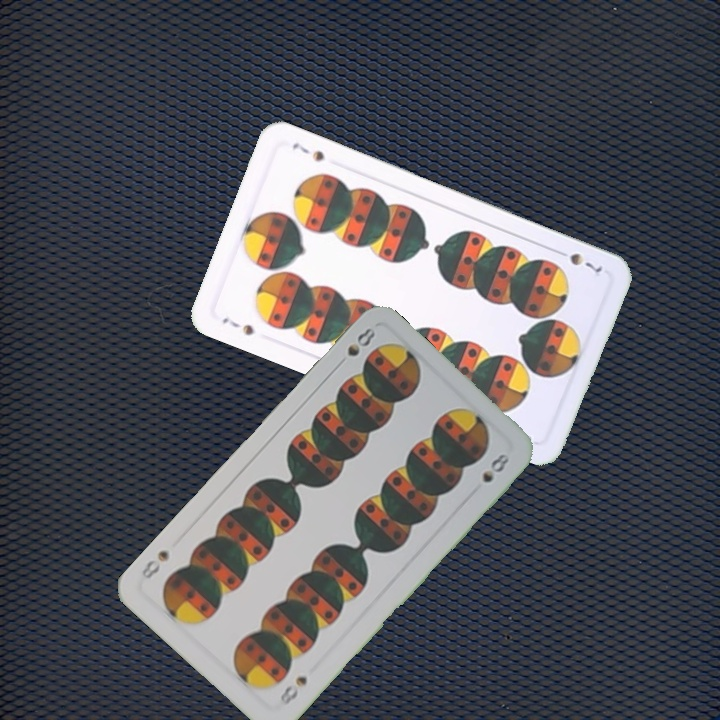S7: (551, 245, 605, 275), (218, 313, 257, 338)
S8: (343, 323, 378, 359), (276, 672, 310, 708)
